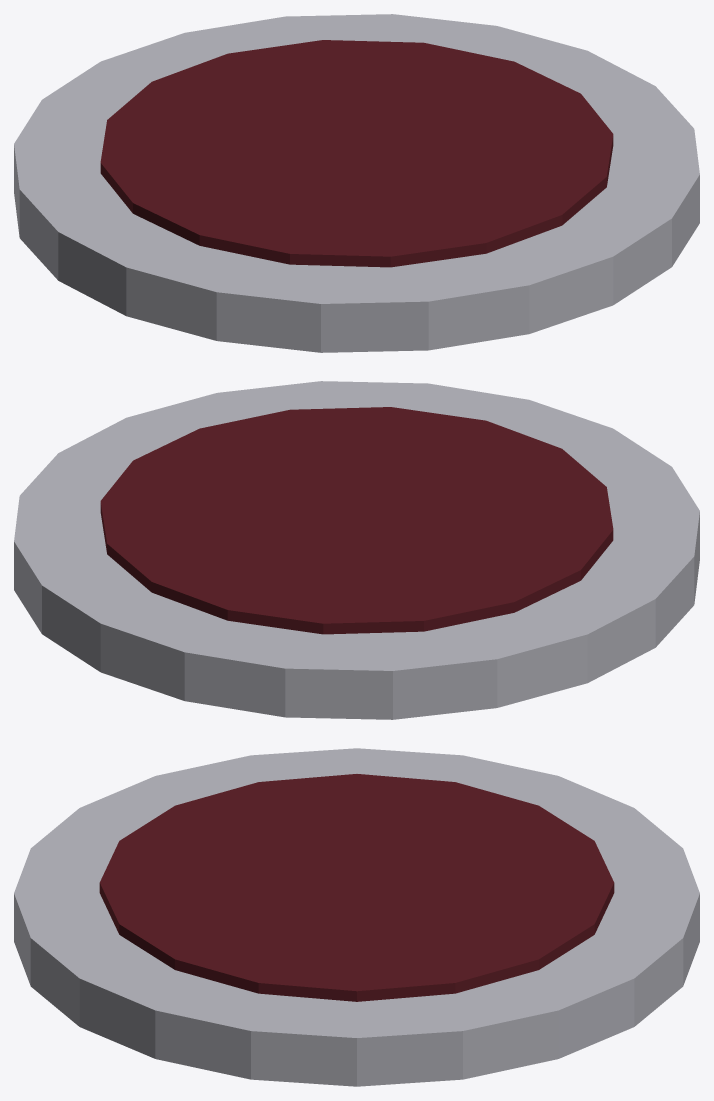
The model's file is TownFind_church.glb.
3 views of the same model, one above another, from view 1: azimuth 30°, elevation 25°; view 2: azimuth 150°, elevation 25°; view 3: azimuth 270°, elevation 25° (orthographic).
Visible parts, largest first — view 1: TownFind_church.001; view 2: TownFind_church.001; view 3: TownFind_church.001.
Part boxes in pixels (<box>): TownFind_church.001: <box>14,14,699,352</box>; TownFind_church.001: <box>14,381,699,719</box>; TownFind_church.001: <box>14,748,699,1086</box>.
Bounding box in the file's own units: 0.32 × 0.0305 × 0.32.
